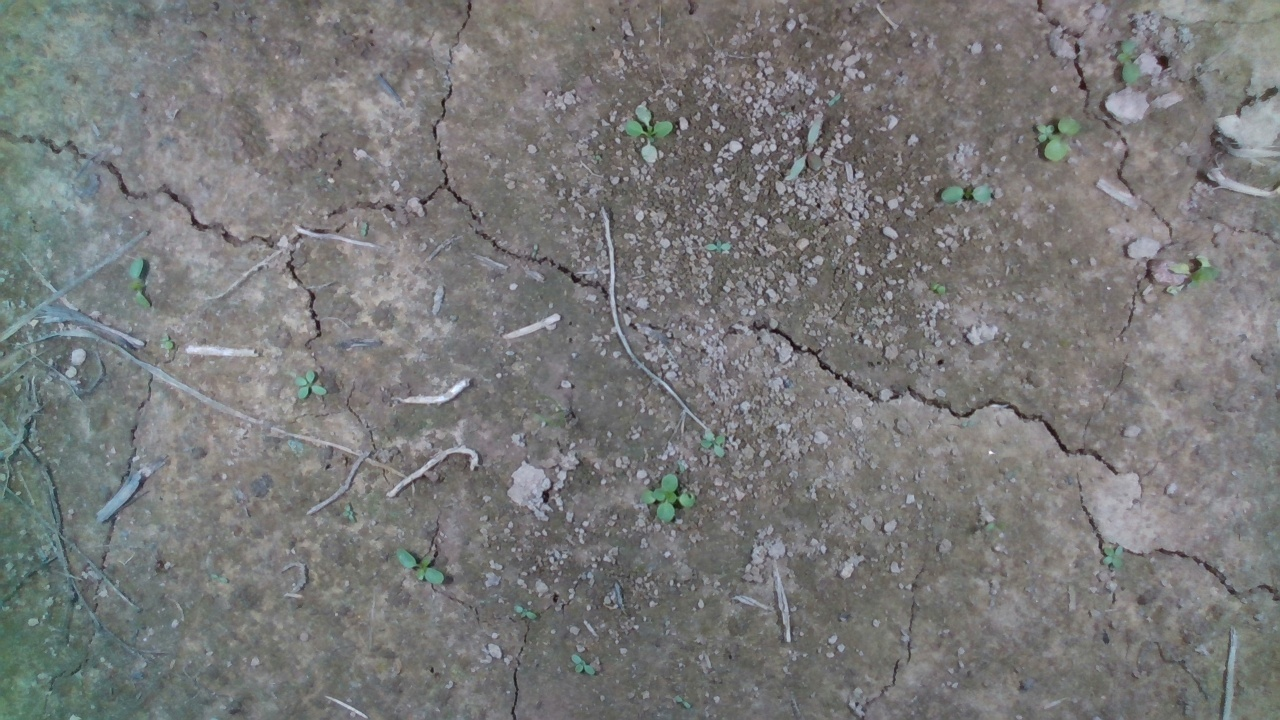weed: (623, 107, 675, 165), (641, 469, 695, 524), (1032, 115, 1084, 163), (391, 544, 445, 580), (128, 255, 153, 312), (1116, 38, 1145, 84), (290, 369, 327, 402), (939, 182, 995, 203), (701, 433, 728, 456)
